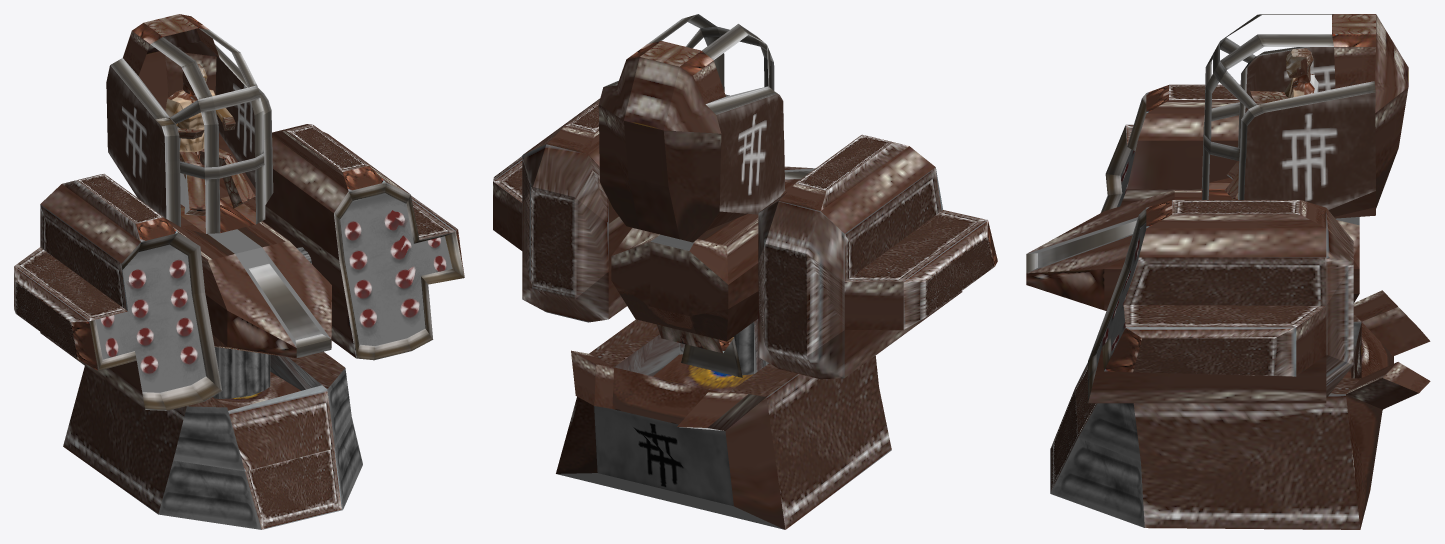
The model's file is Missile Turret 1.fbx.
3 renders of one model, left to right at view 1: azimuth 30°, elevation 25°; view 2: azimuth 150°, elevation 25°; view 3: azimuth 270°, elevation 25°, orthographic. The views are drawn at different scales.
Parts seen in each view (by area): view 1: Cube.001, Cube; view 2: Cube.001, Plane; view 3: Cube.001, Cube.
Boxes of the visible parts, x1=… form: Cube.001: x1=14, y1=14, x2=464, y2=529; Cube: x1=165, y1=64, x2=255, y2=215; Cube.001: x1=493, y1=14, x2=997, y2=529; Plane: x1=657, y1=324, x2=742, y2=377; Cube.001: x1=1026, y1=14, x2=1430, y2=529; Cube: x1=1225, y1=48, x2=1318, y2=199.
Bounding box in the file's own units: 537 × 530 × 431.
